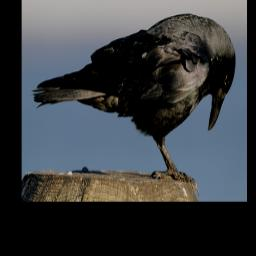Crow: (31, 12, 236, 197)
